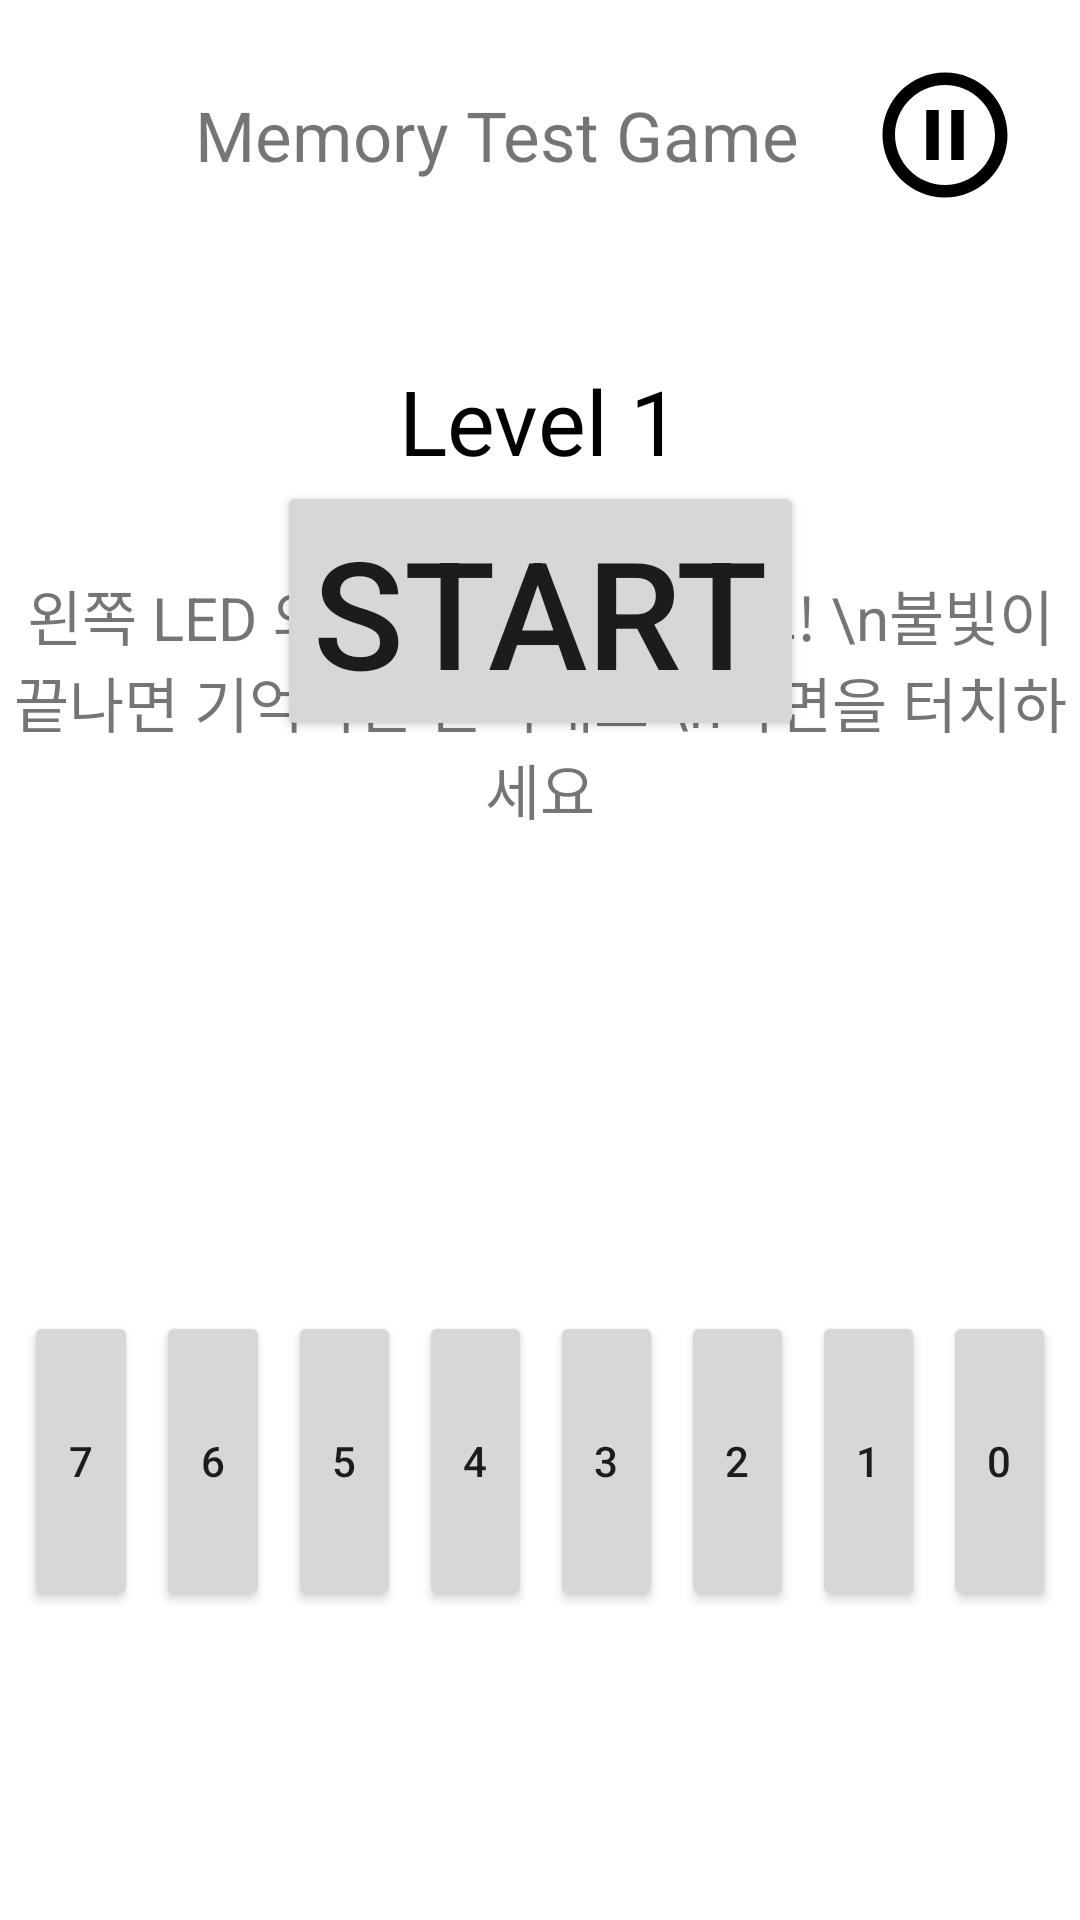

Named icons in this screenshot (1080 x 1920) and their bounding boxes, detection(x1, y1, x2, y2):
pause: detection(882, 72, 1008, 198)
